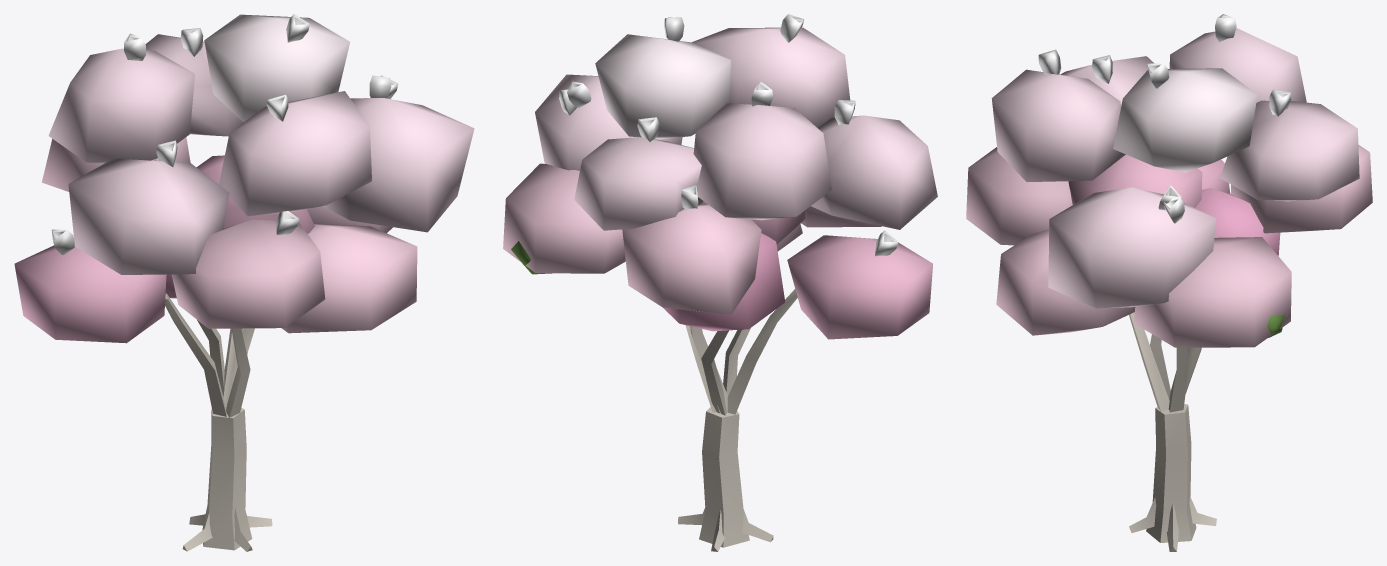
Rendered from magnolia.far.glb.
3 renders of one model, left to right at view 1: azimuth 30°, elevation 25°; view 2: azimuth 150°, elevation 25°; view 3: azimuth 270°, elevation 25°, orthographic. The views are drawn at different scales.
Visible parts, largest first — view 1: magnolia; view 2: magnolia; view 3: magnolia.
Boxes of the visible parts, x1,y1,x2,y2 form: magnolia: (14, 14, 474, 551); magnolia: (503, 14, 937, 551); magnolia: (966, 14, 1372, 551).
Size of the model in its own units: 4.25 by 5.18 by 3.82.
